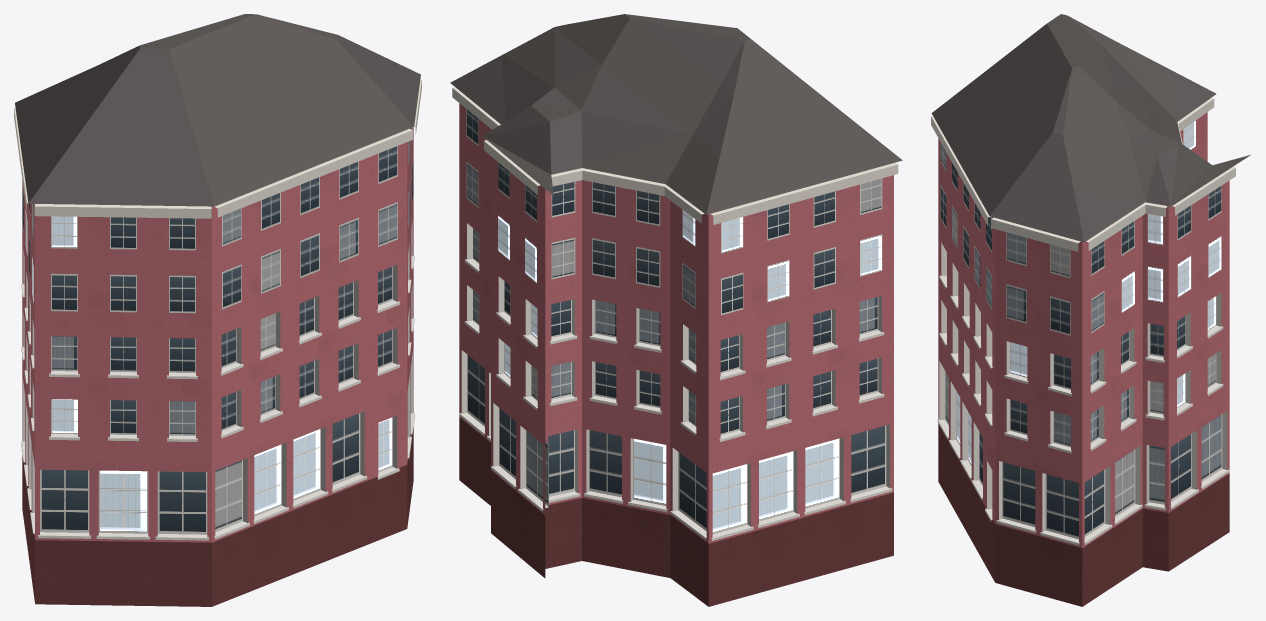
Rendered from z3c_hb_red.glb.
3 renders of one model, left to right at view 1: azimuth 30°, elevation 25°; view 2: azimuth 150°, elevation 25°; view 3: azimuth 270°, elevation 25°, orthographic. The views are drawn at different scales.
Visible parts, largest first — view 1: z3c_hb_red; view 2: z3c_hb_red; view 3: z3c_hb_red.
Boxes of the visible parts, <box> form: z3c_hb_red: <box>14,14,421,606</box>; z3c_hb_red: <box>450,14,902,606</box>; z3c_hb_red: <box>931,14,1250,606</box>.
Size of the model in its own units: 20.88 by 23.86 by 14.88.
Materials: 3 (3 with a texture image).
